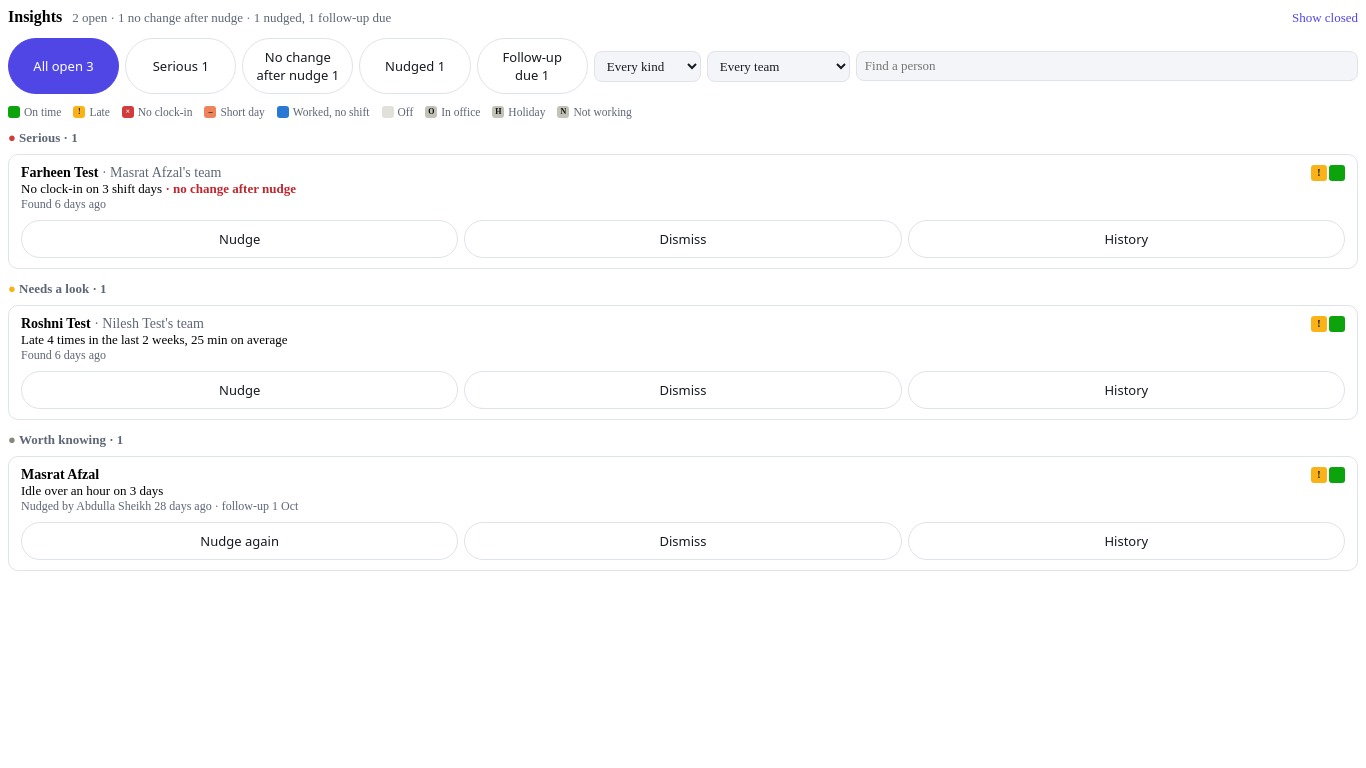
Test: Insights inbox (ADR-0047 §4) › dismiss needs a reason; history lists the steps; closed ones read-only
Click the 2nd button "History": x=1126, y=390 [908,371,1345,409]
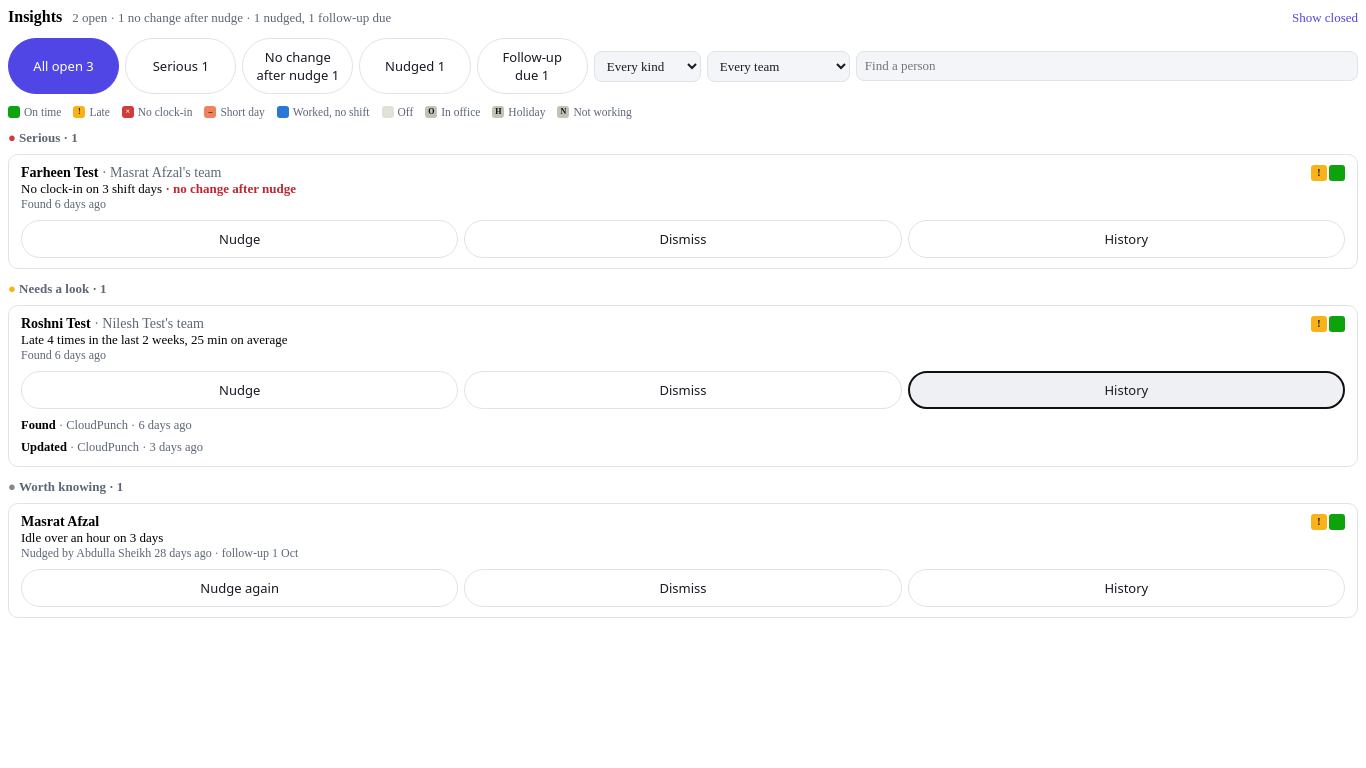
Expected: the list named "history Roshni Test" shows "Found", [21,418,56,432]
Expected: the list named "history Roshni Test" shows "Updated", [21,440,67,454]
Click the 2nd button "Dismiss": x=683, y=390 [464,371,902,409]
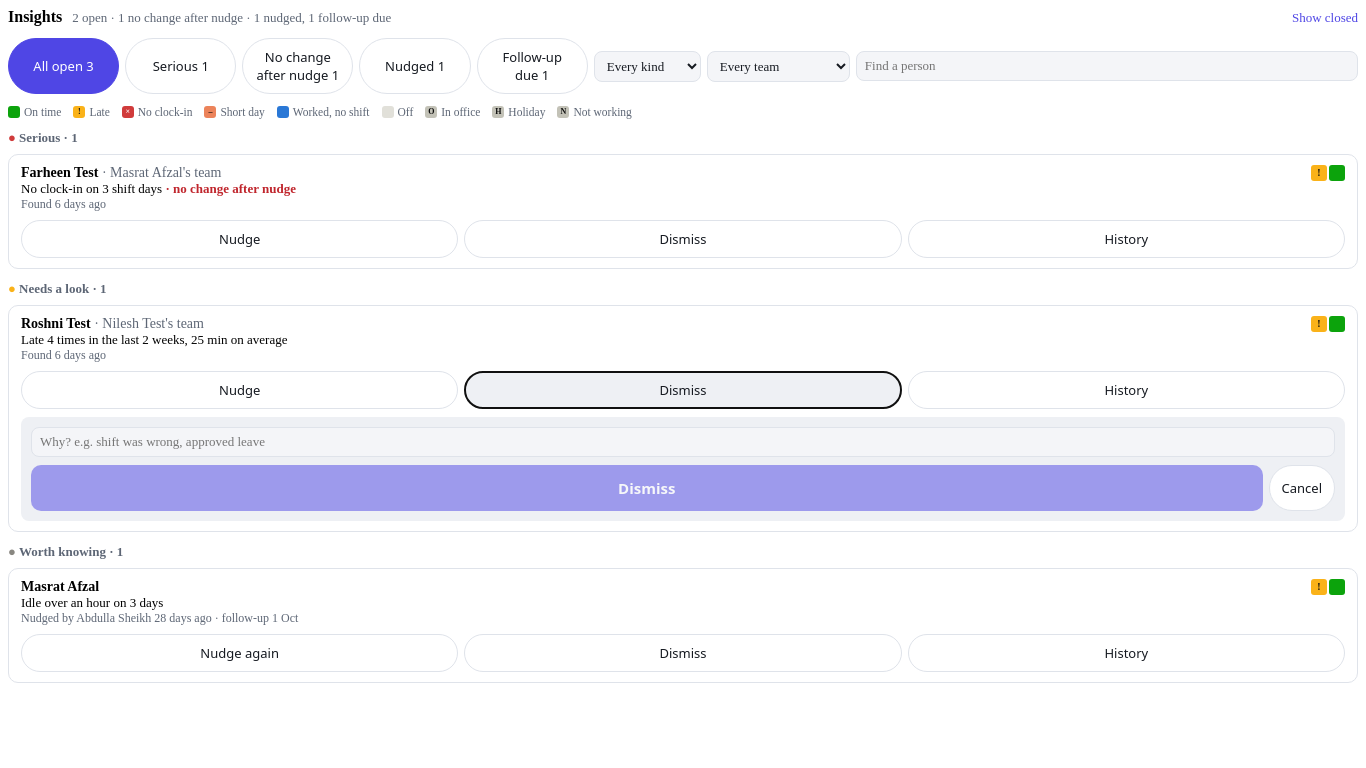
Expected: the 3rd button "Dismiss" is disabled, [31,465,1262,511]
In the field named "dismiss-reason": x=683, y=442 [31,427,1335,457], type "approved leave"
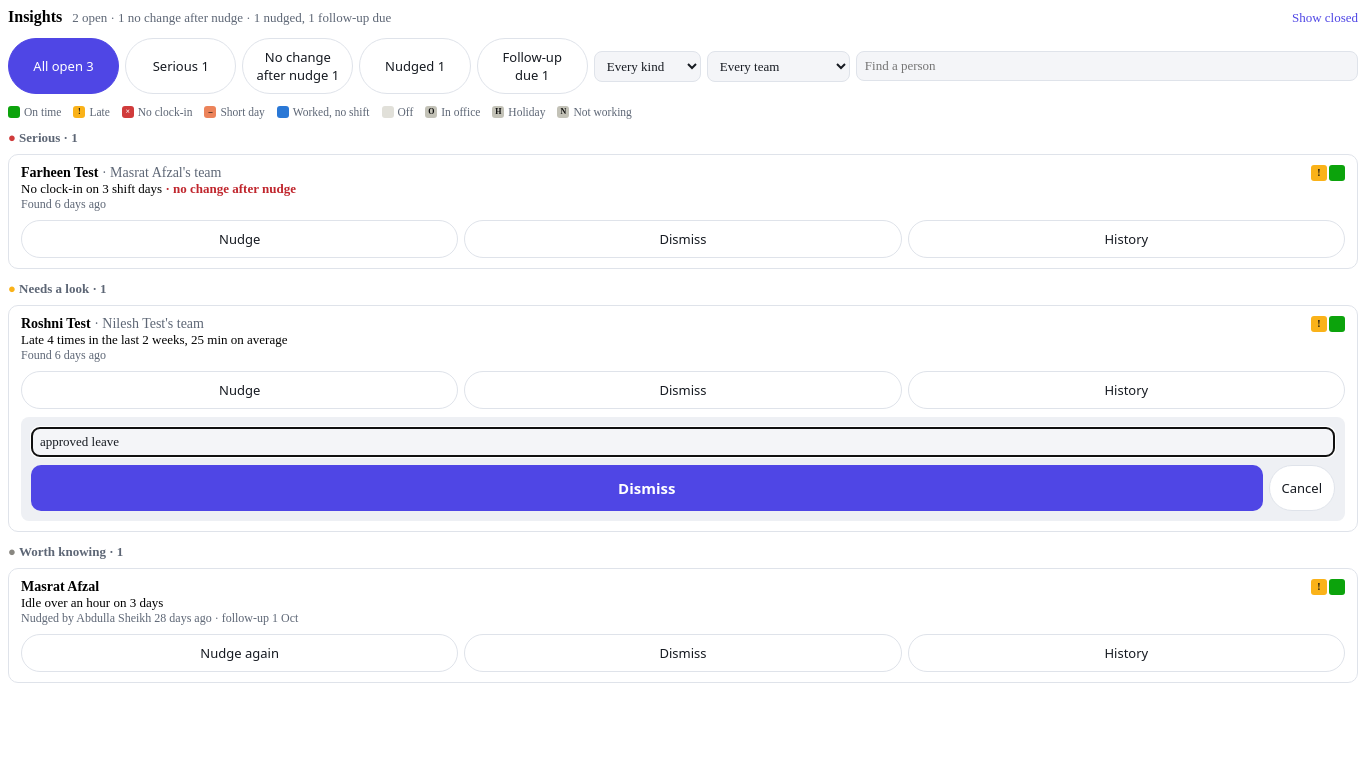
Click the 3rd button "Dismiss": x=647, y=488 [31,465,1262,511]
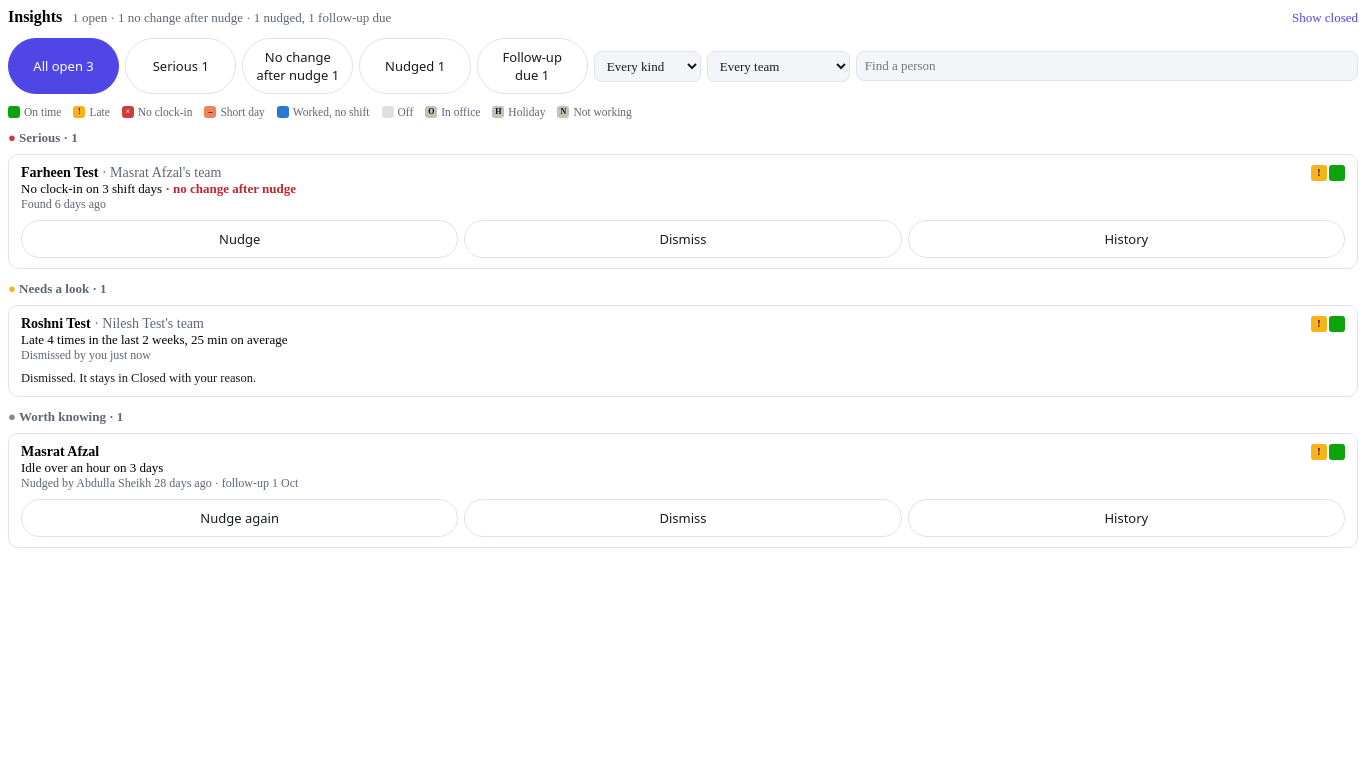
Click the button "Show closed": x=1325, y=18 [1292,10,1358,26]
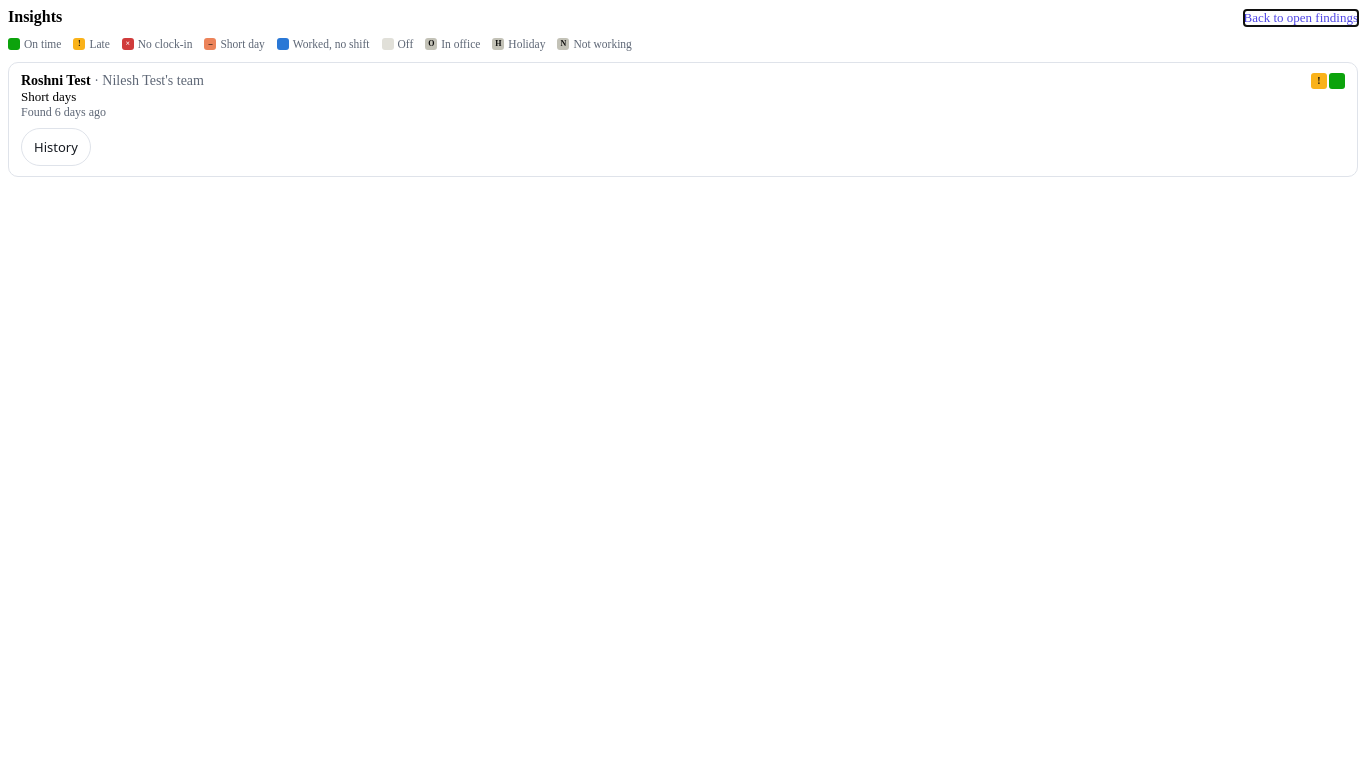
Expected: the button "History" is shown, [21,128,91,166]
Expected: the text "nudge" is gone
